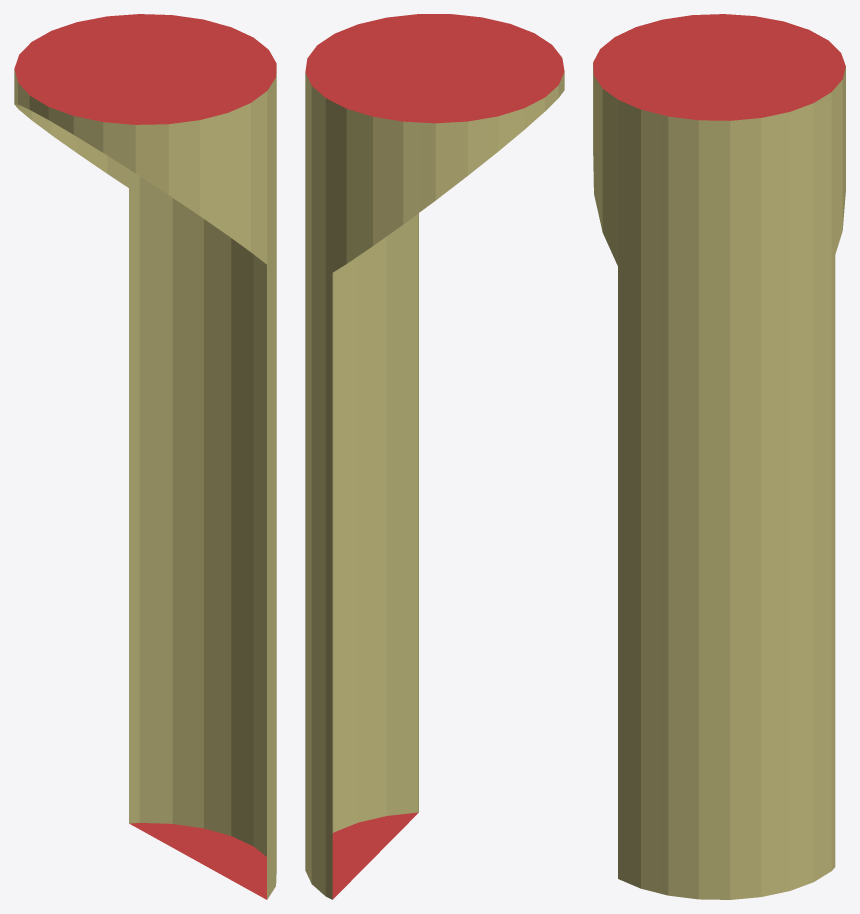
3 renders of one model, left to right at view 1: azimuth 30°, elevation 25°; view 2: azimuth 150°, elevation 25°; view 3: azimuth 270°, elevation 25°, orthographic. The views are drawn at different scales.
Bounding box in the file's own units: 2.94 × 2.94 × 10.
